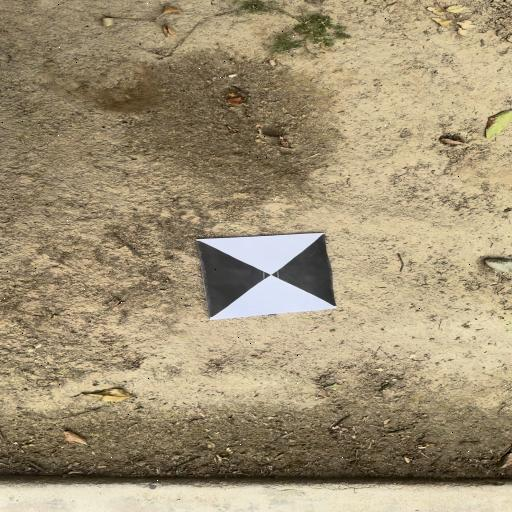target: (196, 233, 338, 320)
